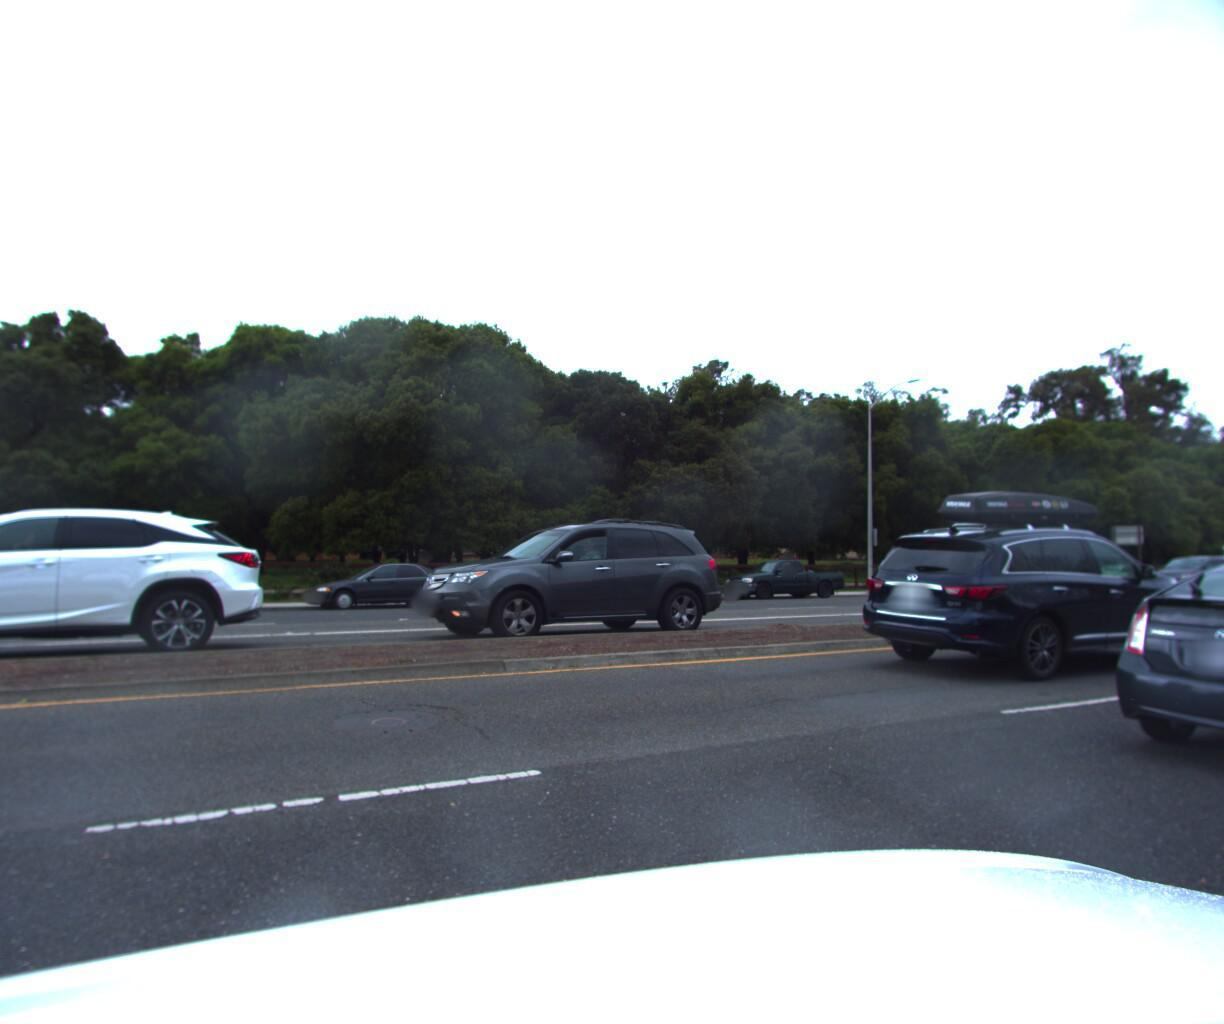car: (834, 474, 1211, 691), (0, 492, 276, 692), (392, 510, 742, 652), (1068, 541, 1224, 820), (299, 563, 465, 617), (716, 558, 847, 603), (1144, 555, 1224, 592), (1069, 560, 1152, 593)
other_vehicle: (1203, 527, 1224, 589)
